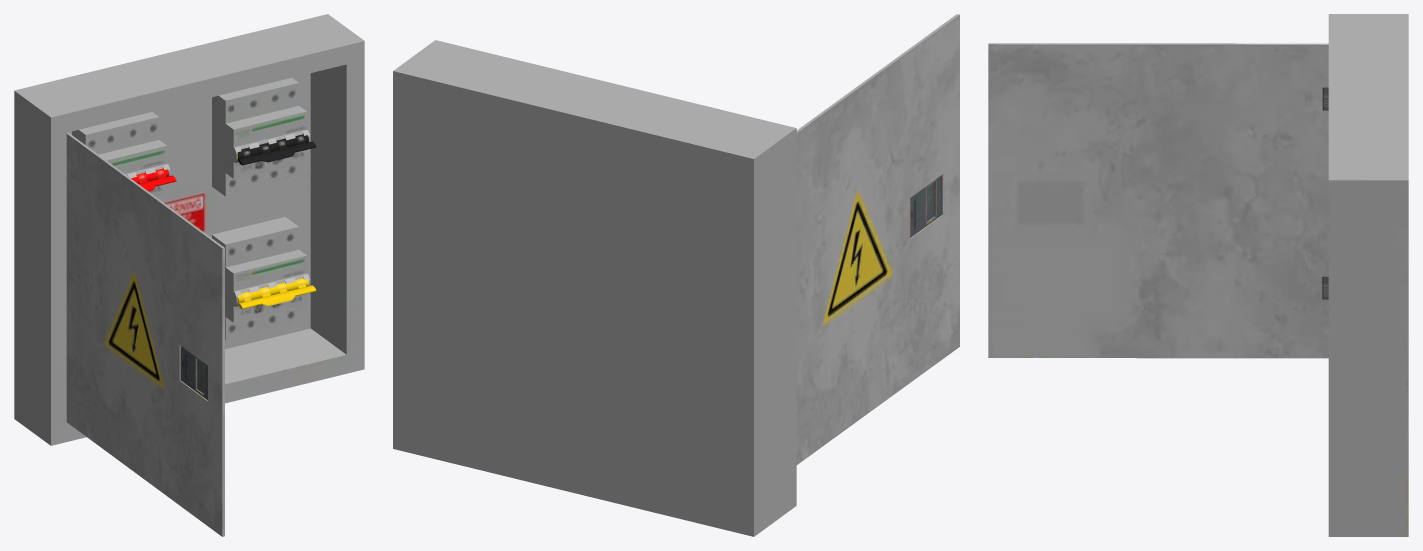
Rendered from failsafe_panel.glb.
3 views of the same model, side by side, from view 1: azimuth 30°, elevation 25°; view 2: azimuth 150°, elevation 25°; view 3: azimuth 270°, elevation 25° (orthographic). The views are drawn at different scales.
Parts seen in each view (by area): view 1: Cube, Cube.003, Cube.005, Cube.002, Cube.004, Cylinder.001, Cylinder.003, Cylinder.002; view 2: Cube, Cube.003; view 3: Cube.003, Cube.
Boxes of the visible parts, x1,y1,x2,y2 form: Cube: (14, 14, 364, 445); Cube.003: (66, 133, 224, 536); Cube.005: (212, 78, 309, 196); Cube.002: (212, 217, 309, 340); Cube.004: (72, 112, 170, 198); Cylinder.001: (237, 278, 316, 309); Cylinder.003: (237, 134, 316, 165); Cylinder.002: (131, 168, 176, 191); Cube: (393, 40, 796, 536); Cube.003: (796, 14, 959, 464); Cube.003: (988, 43, 1328, 358); Cube: (1328, 14, 1408, 536).
Bounding box in the file's own units: 1.69 × 1.69 × 1.81.
Materials: 2 (2 with a texture image).
